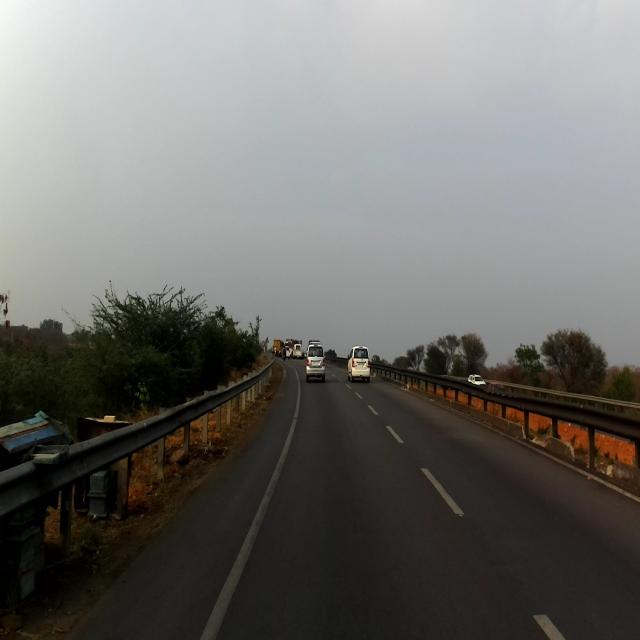car: (347, 344, 370, 382), (304, 340, 325, 381)
